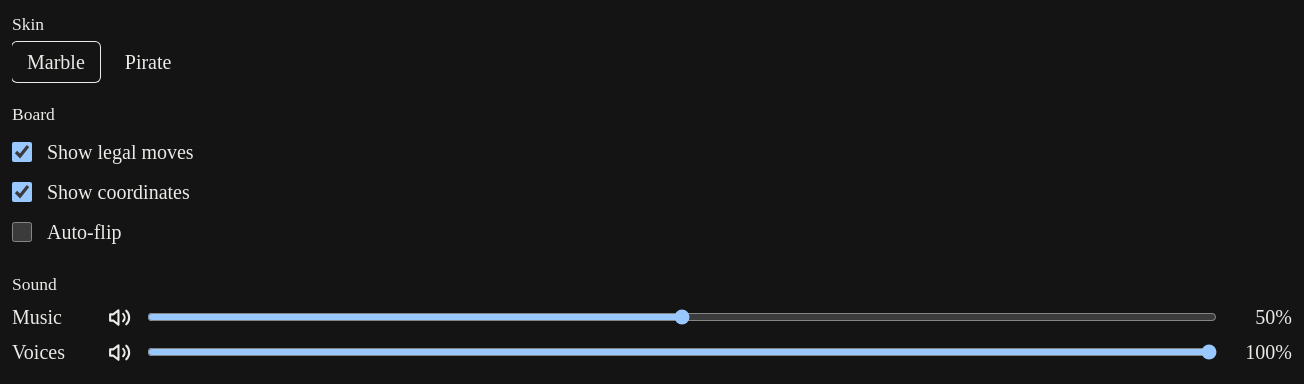
Test: SettingsPanel › has a volume slider for each kind of sound the skin has (§4.11)
This screenshot has width=1304, height=384.
Expected: the element "Sound Music 50% Voices 100%" is shown, [12, 272, 1292, 367]
Expected: the slider labelled "Voices" holds "100", [147, 344, 1217, 360]
Set the slider labelled "Music" to "0" at {"x": 155, "y": 317}, box [147, 309, 1217, 325]
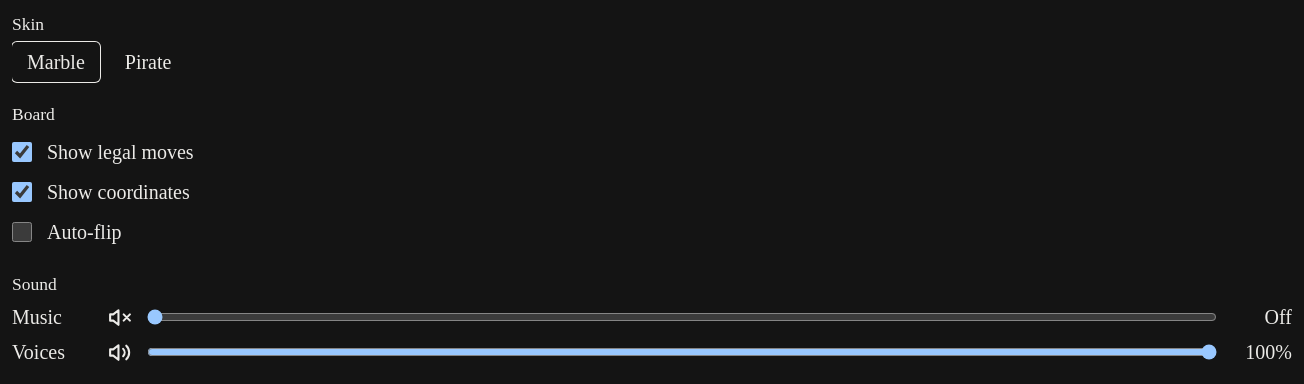
Expected: the text "Off" is shown, [1265, 306, 1292, 328]
